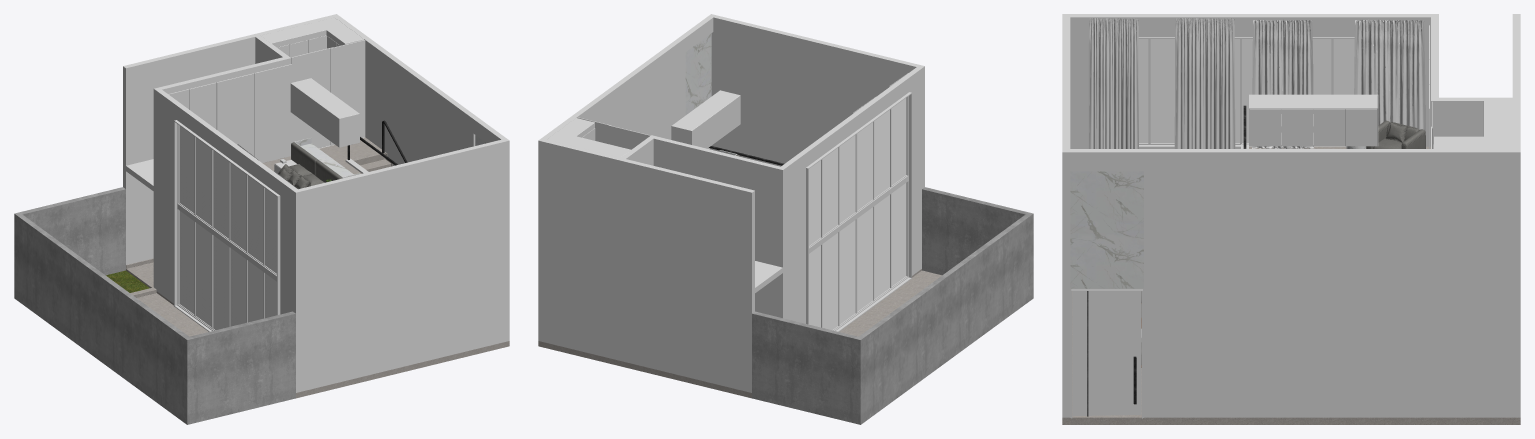
The model's file is home-v02.glb.
The picture shows the model from 3 angles, left to right: view 1: azimuth 30°, elevation 25°; view 2: azimuth 150°, elevation 25°; view 3: azimuth 270°, elevation 25°; orthographic projection. The views are drawn at different scales.
Parts seen in each view (by area): view 1: Cube.003, Cube.054, Cube.001, Cube.019, Cube.038, Cube.048, Cube.043, Cube.002, Cube, Cube.057, Cube.015, Cube.017 (+1 smaller); view 2: Cube.003, Cube.054, Cube.001, Cube.019, Cube.043, Cube.002, Cube.048, Cube.071, Cube.057, Cube; view 3: Cube.003, Cube.001, Cube.072, Cube.071, Cube.019, 3DGeom~1_Defintion.001, Cube.043, 3DGeom~1_Defintion.003, 3DGeom~1_Defintion, 3DGeom~1_Defintion.002, Cube, Cube.002 (+3 smaller).
Part boxes in pixels (bbox=[...]): Cube.003: bbox=[123, 14, 509, 289]; Cube.054: bbox=[14, 187, 295, 424]; Cube.001: bbox=[123, 164, 509, 392]; Cube.019: bbox=[174, 120, 280, 331]; Cube.038: bbox=[168, 64, 291, 162]; Cube.048: bbox=[260, 17, 365, 148]; Cube.043: bbox=[290, 78, 359, 178]; Cube.002: bbox=[123, 137, 509, 295]; Cube: bbox=[126, 262, 509, 398]; Cube.057: bbox=[106, 270, 208, 336]; Cube.015: bbox=[291, 142, 342, 182]; Cube.017: bbox=[277, 35, 340, 57]; Cube.003: bbox=[538, 14, 924, 289]; Cube.054: bbox=[752, 187, 1033, 424]; Cube.001: bbox=[538, 126, 924, 392]; Cube.019: bbox=[806, 92, 911, 331]; Cube.043: bbox=[671, 90, 740, 155]; Cube.002: bbox=[538, 121, 924, 295]; Cube.048: bbox=[547, 117, 650, 157]; Cube.071: bbox=[685, 33, 711, 114]; Cube.057: bbox=[839, 270, 941, 336]; Cube: bbox=[538, 269, 921, 398]; Cube.003: bbox=[1062, 14, 1520, 281]; Cube.001: bbox=[1062, 288, 1520, 417]; Cube.072: bbox=[1072, 291, 1141, 416]; Cube.071: bbox=[1070, 171, 1143, 288]; Cube.019: bbox=[1138, 36, 1354, 148]; 3DGeom~1_Defintion.001: bbox=[1174, 18, 1235, 148]; Cube.043: bbox=[1249, 94, 1378, 146]; 3DGeom~1_Defintion.003: bbox=[1354, 19, 1426, 148]; 3DGeom~1_Defintion: bbox=[1088, 18, 1138, 148]; 3DGeom~1_Defintion.002: bbox=[1252, 19, 1314, 148]; Cube: bbox=[1062, 291, 1520, 424]; Cube.002: bbox=[1062, 144, 1520, 288].
Bounding box in the file's own units: 9.38 × 5.7 × 8.69.
19 materials, 14 textured.
